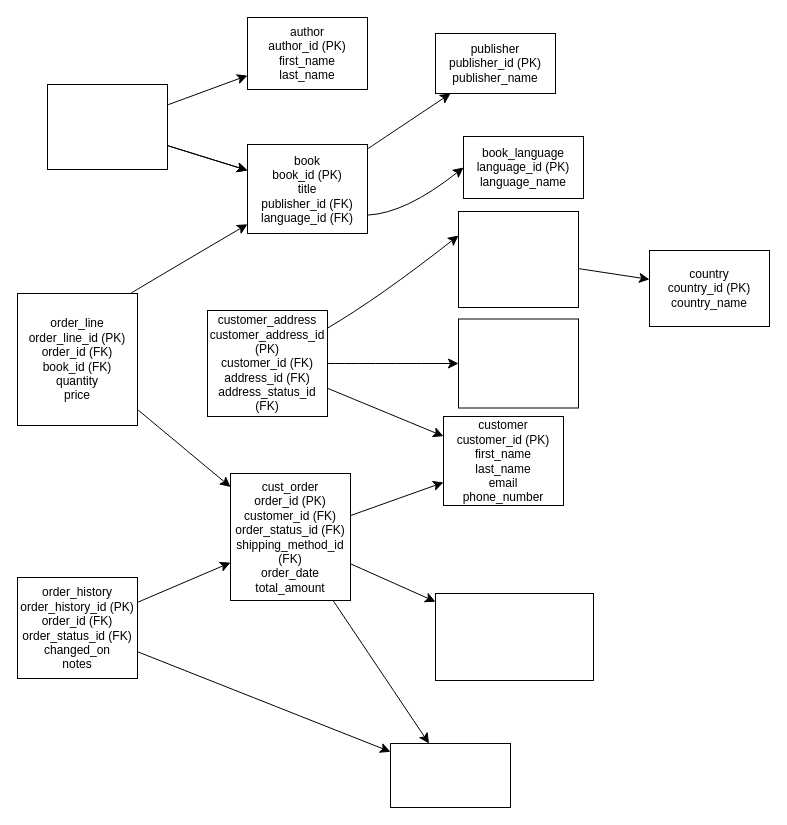
The diagram is 787 pixels wide and 825 high, and some of its shapes have lost their labels. Each missing label, with the centre of its shape:
address address_id (PK) street city postal_code country_id (FK): the point at 518,259
address_status address_status_id (PK) status_description: the point at 518,363
book_author book_author_id (PK) book_id (FK) author_id (FK): the point at 107,127
order_status order_status_id (PK) status_name: the point at 450,775
shipping_method shipping_method_id (PK) method_name delivery_time_days: the point at 514,636
